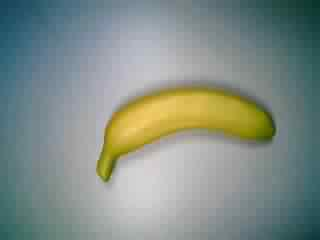banana: (93, 83, 277, 184)
